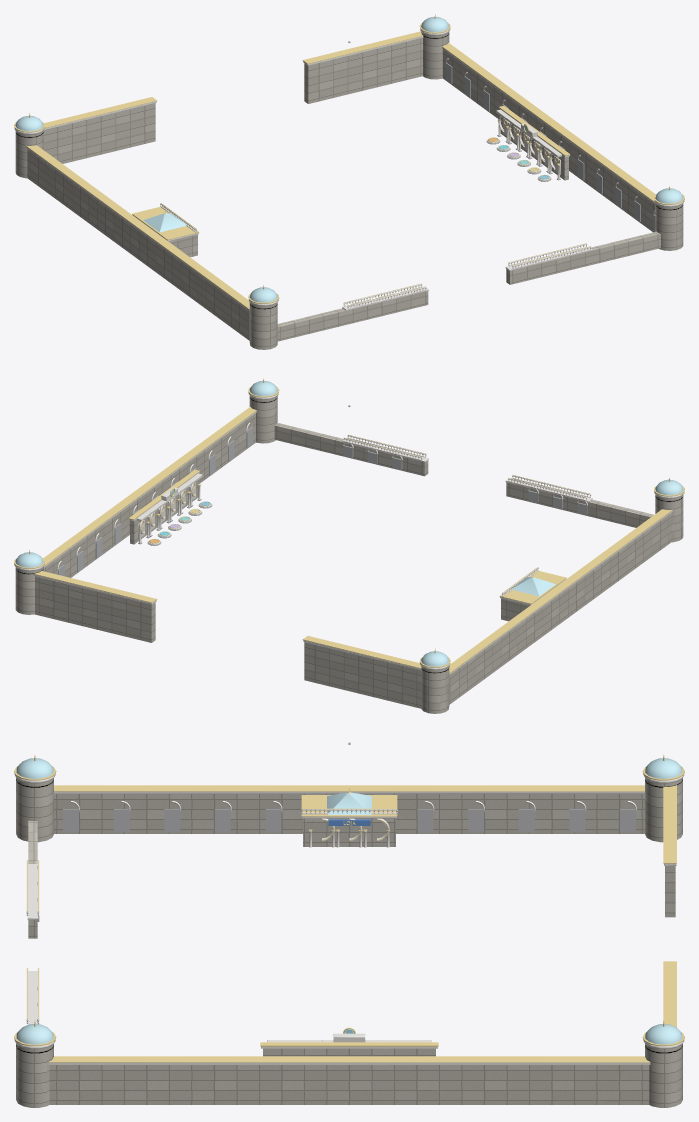
Rendered from LV_LATERAIS.fbx.
The picture shows the model from 3 angles, top to bottom: view 1: azimuth 30°, elevation 25°; view 2: azimuth 150°, elevation 25°; view 3: azimuth 270°, elevation 25°; orthographic projection. The views are drawn at different scales.
Parts seen in each view (by area): view 1: STONE__laterais, GOLD__laterais, MARB__laterais, GLASS__laterais, TRIM__laterais; view 2: STONE__laterais, GOLD__laterais, MARB__laterais, GLASS__laterais, TRIM__laterais; view 3: STONE__laterais, GOLD__laterais, MARB__laterais, TRIM__laterais, GLASS__laterais.
Part boxes in pixels (x1,y1,x2,y2): STONE__laterais: [15, 32, 683, 349]; GOLD__laterais: [14, 14, 684, 309]; MARB__laterais: [14, 29, 684, 310]; GLASS__laterais: [15, 16, 683, 302]; TRIM__laterais: [445, 63, 655, 231]; STONE__laterais: [15, 396, 683, 713]; GOLD__laterais: [14, 378, 684, 673]; MARB__laterais: [14, 393, 684, 674]; GLASS__laterais: [15, 380, 683, 666]; TRIM__laterais: [58, 426, 587, 576]; STONE__laterais: [16, 778, 682, 1107]; GOLD__laterais: [14, 755, 684, 1062]; MARB__laterais: [14, 773, 684, 1064]; TRIM__laterais: [37, 809, 635, 921]; GLASS__laterais: [16, 758, 682, 1044].
Bounding box in the file's own units: 317 × 118 × 318.
Materials: 15 (1 with a texture image).
